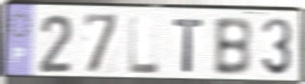2: (38, 12, 76, 75)
3: (260, 16, 293, 78)
7: (83, 12, 120, 76)
B: (212, 16, 254, 78)
L: (128, 14, 161, 76)
T: (172, 17, 206, 75)
